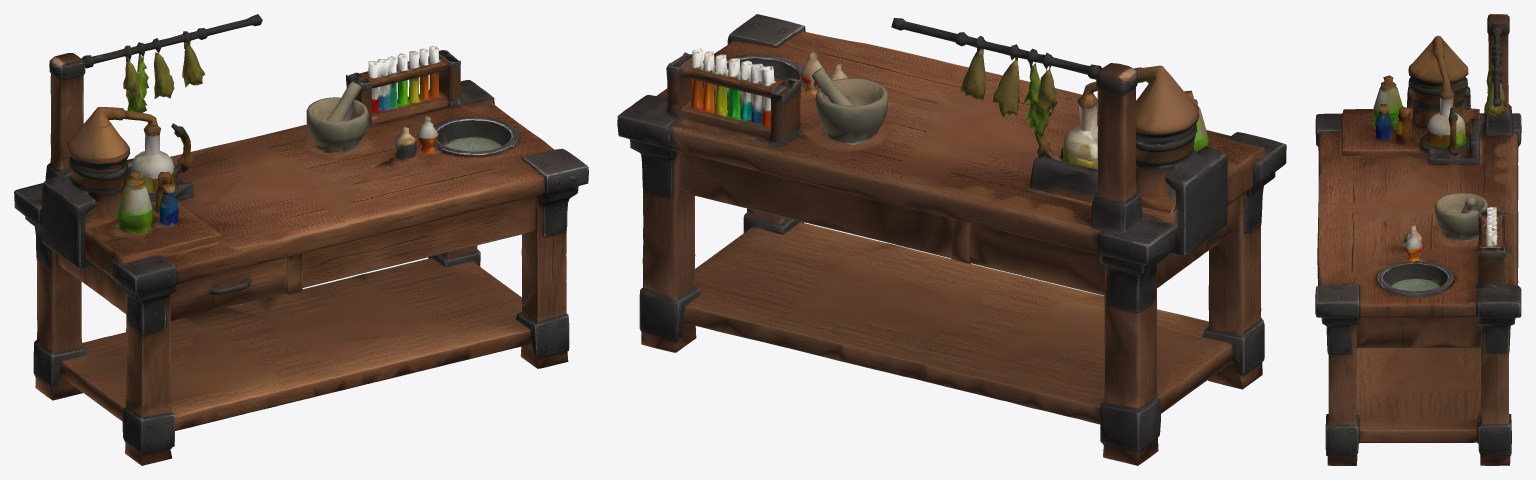
File: alchemy-table.glb
3 views of the same model, side by side, from view 1: azimuth 30°, elevation 25°; view 2: azimuth 150°, elevation 25°; view 3: azimuth 270°, elevation 25° (orthographic). The views are drawn at different scales.
Parts seen in each view (by area): view 1: Mesh_0; view 2: Mesh_0; view 3: Mesh_0.
Part boxes in pixels (left/top/right/bottom): Mesh_0: left=14, top=14, right=588, bottom=465; Mesh_0: left=617, top=14, right=1286, bottom=465; Mesh_0: left=1315, top=14, right=1521, bottom=465.
Bounding box in the file's own units: 1.39 × 0.95 × 0.6311.
1 material, 1 textured.
